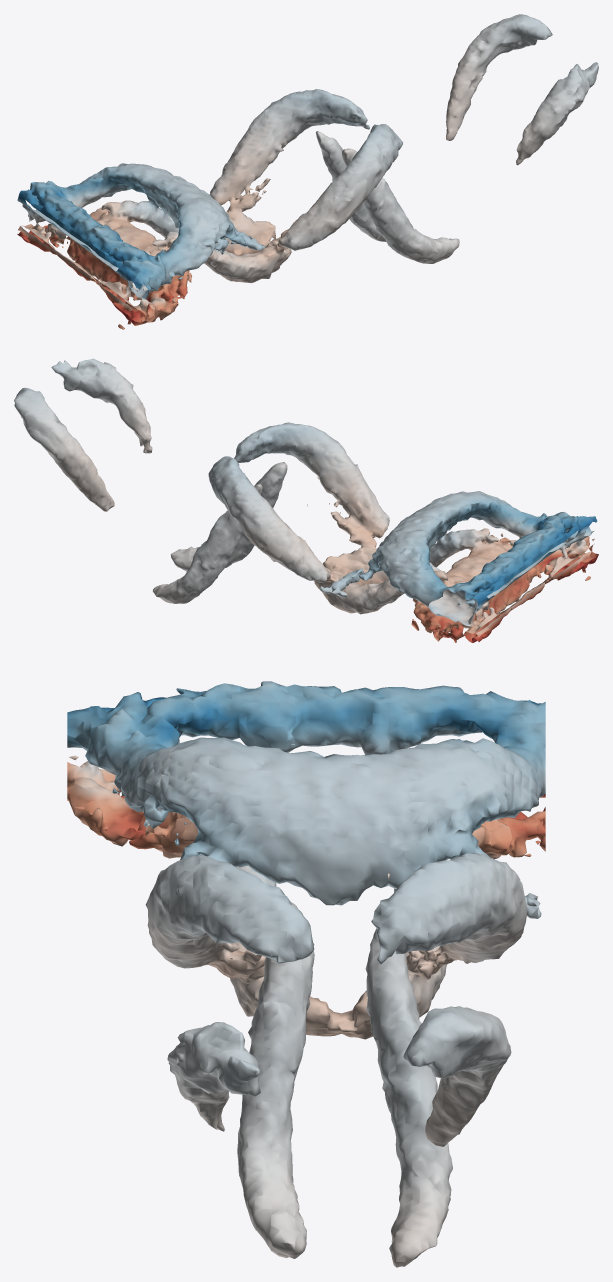
The model's file is q085-full.glb.
The picture shows the model from 3 angles, top to bottom: view 1: azimuth 30°, elevation 25°; view 2: azimuth 150°, elevation 25°; view 3: azimuth 270°, elevation 25°; orthographic projection. The views are drawn at different scales.
Size of the model in its own units: 6.2 by 2.2 by 2.54.
